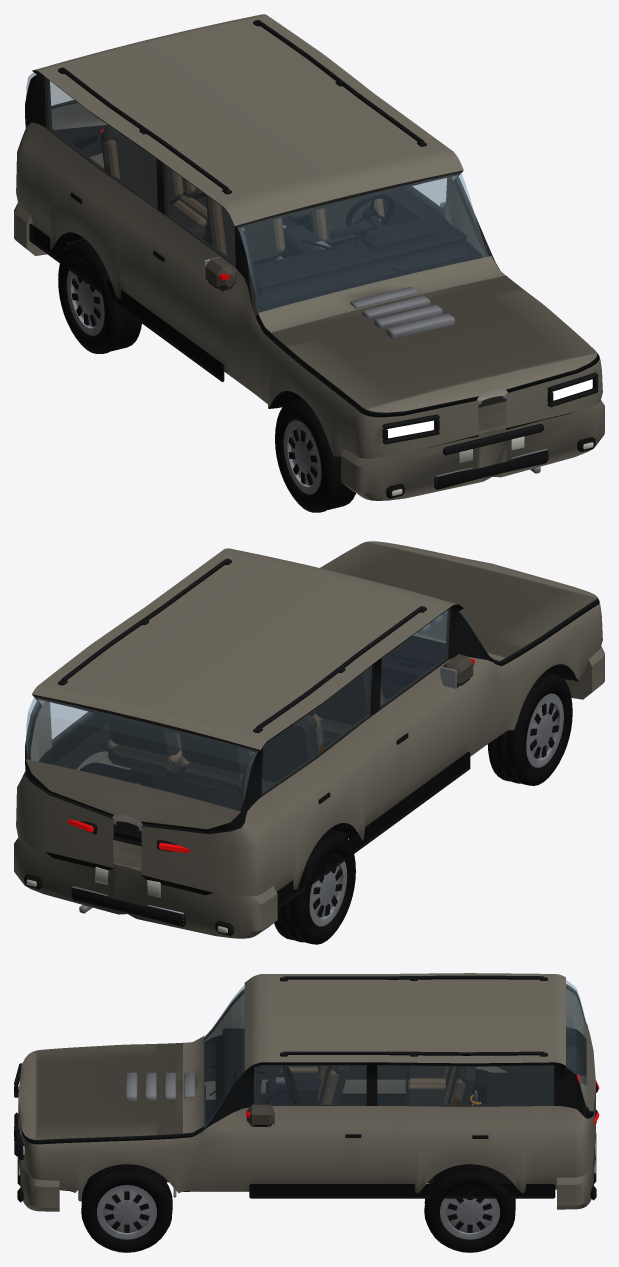
The model's file is rangeroller_2026.glb.
3 views of the same model, one above another, from view 1: azimuth 30°, elevation 25°; view 2: azimuth 150°, elevation 25°; view 3: azimuth 270°, elevation 25° (orthographic). The views are drawn at different scales.
Parts seen in each view (by area): view 1: body, glass, interior, bonnet, trim, bumper_front, wheel_fr, wheel_rr, underside, pillars, mirror_r, bumper_rear; view 2: body, glass, interior, bonnet, bumper_rear, trim, wheel_fr, wheel_rr, pillars, underside, bumper_front, mirror_r; view 3: body, glass, interior, bonnet, trim, wheel_fl, wheel_rl, pillars, underside, bumper_rear, bumper_front, mirror_l.
Part boxes in pixels (x1,y1,x2,y2): body: [16, 14, 602, 458]; glass: [26, 72, 488, 312]; interior: [51, 103, 507, 404]; bonnet: [271, 275, 596, 409]; trim: [29, 20, 598, 455]; bumper_front: [341, 400, 604, 500]; wheel_fr: [275, 398, 355, 512]; wheel_rr: [58, 239, 141, 353]; underside: [52, 215, 572, 473]; pillars: [25, 70, 599, 417]; mirror_r: [204, 256, 236, 291]; bumper_rear: [14, 167, 104, 255]; body: [16, 541, 602, 896]; glass: [26, 610, 475, 810]; interior: [30, 635, 445, 846]; bonnet: [320, 542, 596, 657]; bumper_rear: [14, 838, 277, 938]; trim: [25, 558, 493, 909]; wheel_fr: [487, 672, 572, 785]; wheel_rr: [274, 830, 355, 944]; pillars: [25, 597, 599, 834]; underside: [46, 611, 578, 913]; bumper_front: [564, 646, 604, 699]; mirror_r: [440, 654, 474, 688]; body: [18, 973, 595, 1193]; glass: [204, 980, 586, 1128]; interior: [204, 988, 586, 1183]; bonnet: [35, 1042, 182, 1139]; trim: [14, 975, 597, 1198]; wheel_fl: [81, 1164, 172, 1252]; wheel_rl: [424, 1164, 515, 1252]; pillars: [18, 1062, 595, 1144]; underside: [60, 1068, 595, 1201]; bumper_rear: [557, 1083, 596, 1209]; bumper_front: [17, 1155, 59, 1211]; mirror_l: [246, 1104, 275, 1126].
Bounding box in the file's own units: 2.05 × 1.86 × 5.17.
